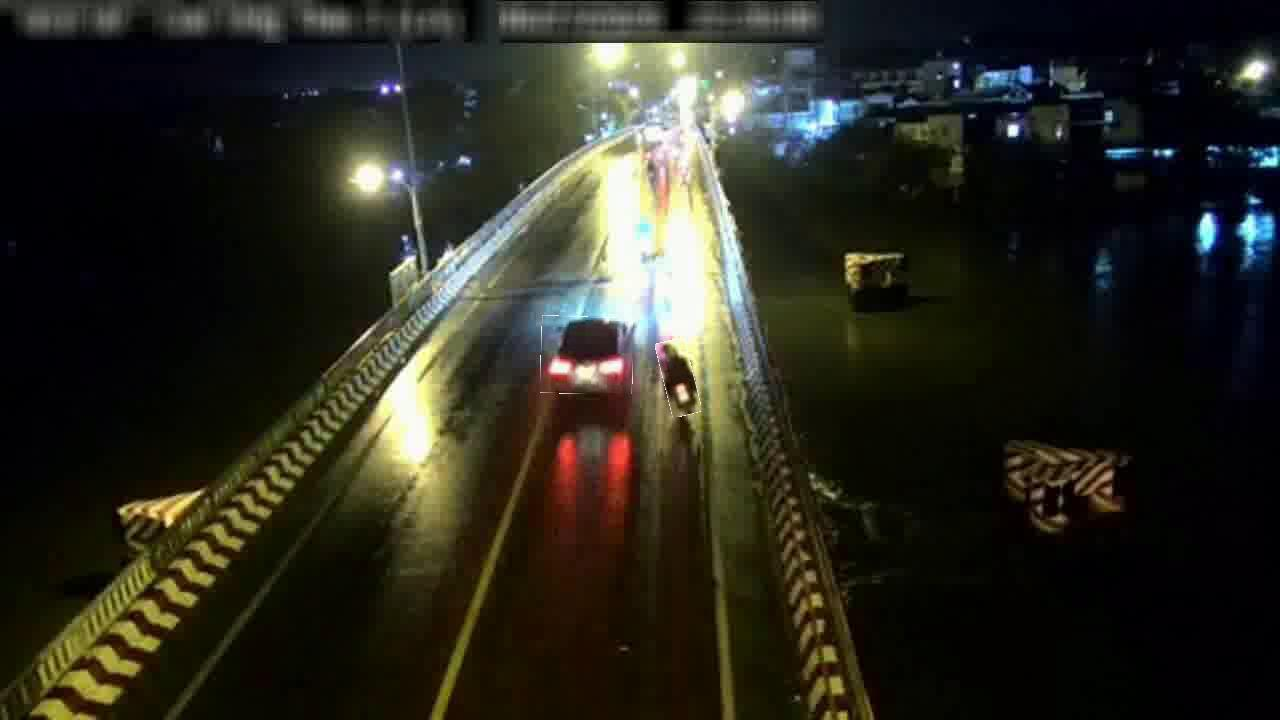container: (540, 316, 634, 395)
motorbike: (660, 339, 698, 417)
